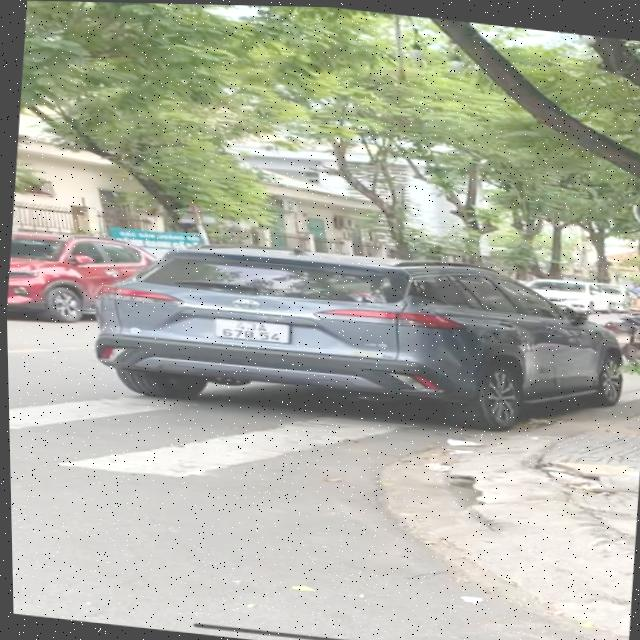car: (81, 219, 640, 459), (5, 223, 151, 329)
plate: (207, 311, 296, 352)
